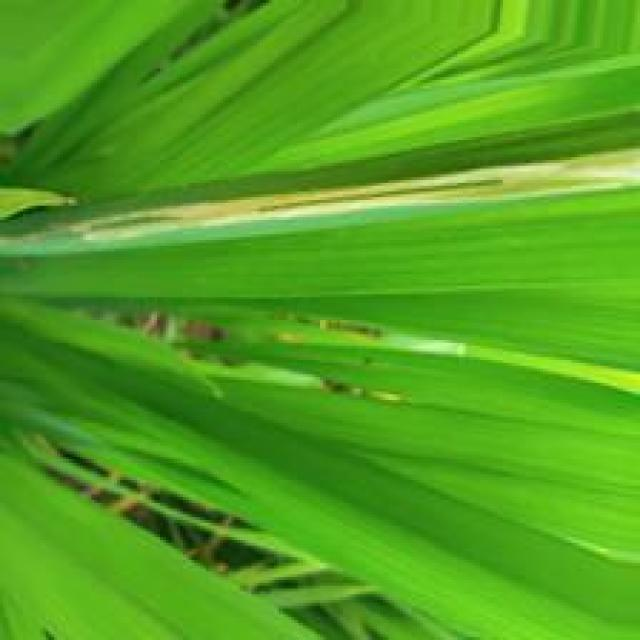Rice_Hispa: (53, 155, 640, 243)
